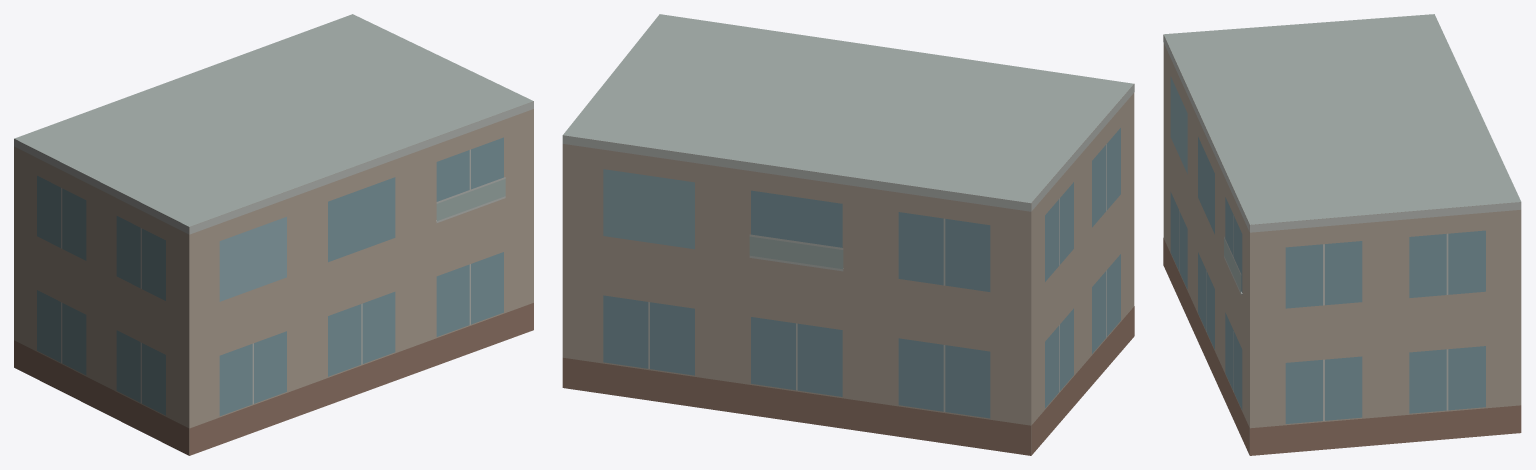
File: survey-upis-32547587.glb
3 views of the same model, side by side, from view 1: azimuth 30°, elevation 25°; view 2: azimuth 150°, elevation 25°; view 3: azimuth 270°, elevation 25° (orthographic). The views are drawn at different scales.
Parts seen in each view (by area): view 1: survey-upis-32547587.tmp; view 2: survey-upis-32547587.tmp; view 3: survey-upis-32547587.tmp.
Part boxes in pixels (x1,y1,x2,y2): survey-upis-32547587.tmp: (14, 14, 533, 455); survey-upis-32547587.tmp: (562, 14, 1134, 455); survey-upis-32547587.tmp: (1163, 14, 1521, 455).
Bounding box in the file's own units: 14.1 × 7.2 × 10.12.
